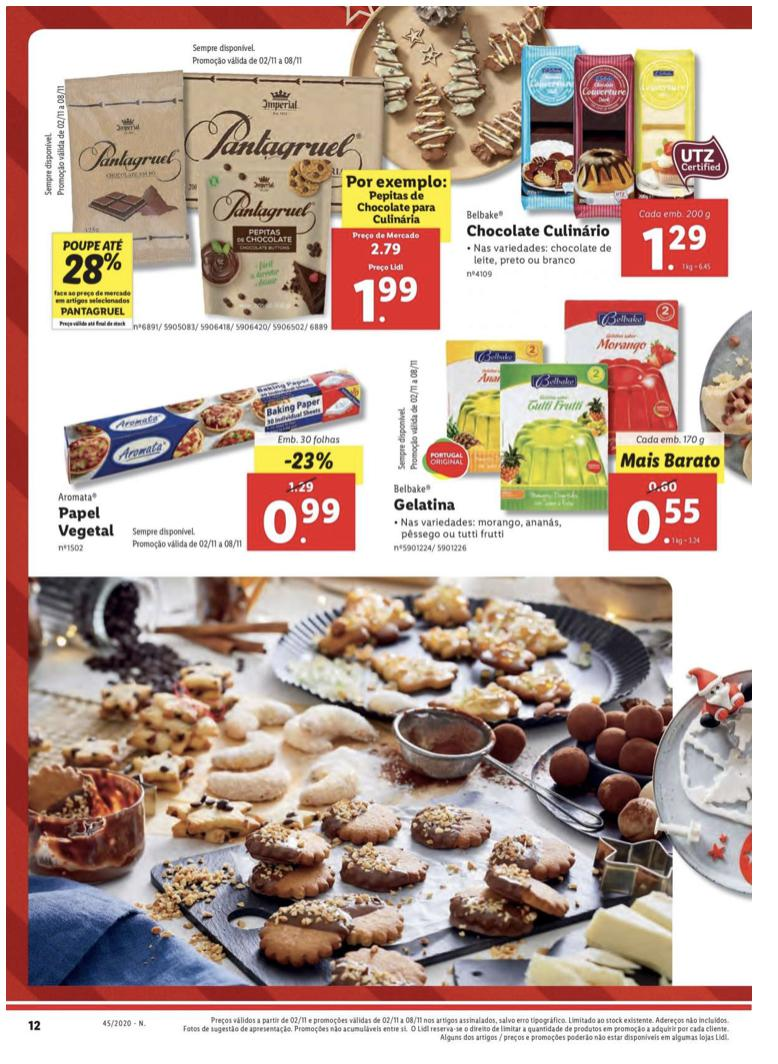name: (469, 220, 616, 242), (51, 503, 118, 541), (390, 494, 462, 515)
price: (258, 491, 348, 548), (637, 217, 722, 277), (623, 494, 701, 548), (348, 277, 432, 323)
product: (33, 49, 451, 332), (378, 292, 758, 562), (48, 352, 379, 562), (461, 54, 748, 281)
promotion: (58, 249, 123, 288), (281, 449, 337, 475)
